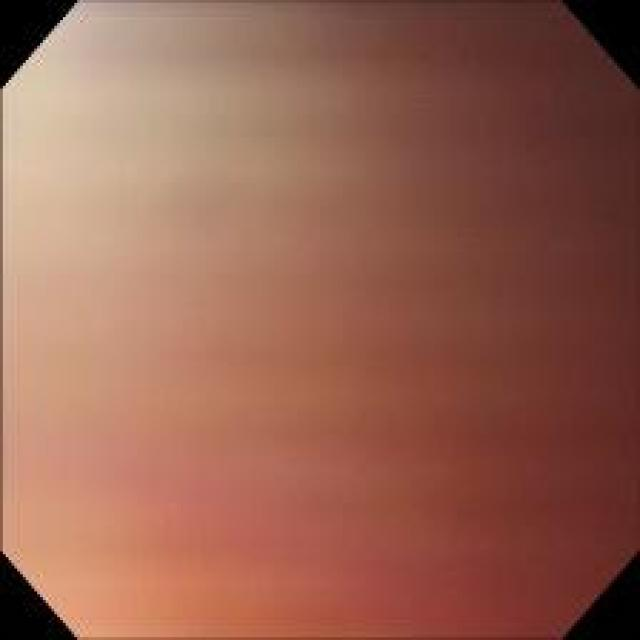color misalignment: (10, 20, 626, 631)
